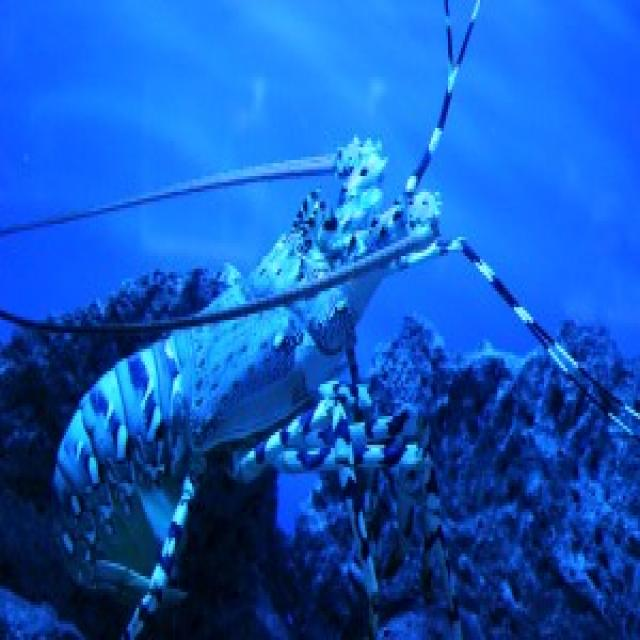lobsters: (0, 61, 627, 576)
